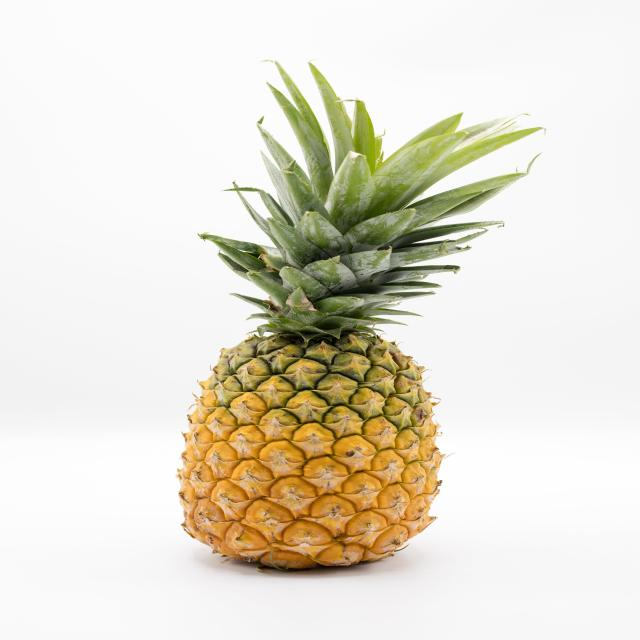pineapple: (159, 61, 551, 572)
